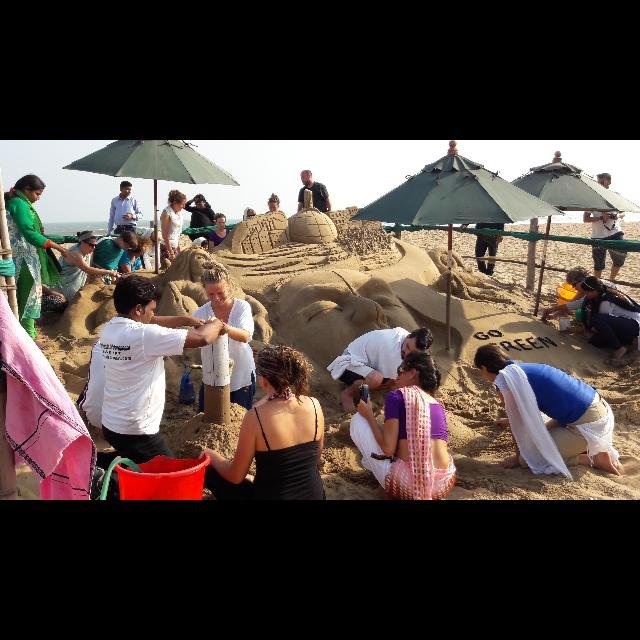head: (114, 274, 158, 330), (258, 346, 292, 390), (396, 351, 434, 389), (474, 344, 508, 384), (201, 270, 231, 306), (402, 329, 432, 359), (19, 175, 45, 205), (568, 269, 590, 293), (582, 276, 604, 300), (79, 230, 97, 253), (130, 236, 148, 258), (118, 231, 136, 251), (170, 191, 186, 211), (146, 228, 160, 248), (596, 174, 612, 190), (120, 181, 132, 197), (301, 170, 313, 186), (216, 214, 227, 230), (194, 194, 206, 208), (485, 190, 497, 202)
person: (472, 344, 624, 481), (186, 260, 258, 456), (0, 172, 76, 351), (325, 326, 435, 416), (545, 264, 637, 344), (54, 228, 124, 324), (582, 172, 630, 296), (82, 230, 140, 320), (458, 175, 506, 282), (296, 168, 334, 276), (104, 180, 144, 276), (158, 188, 188, 300), (110, 234, 154, 310), (182, 193, 218, 283), (128, 226, 164, 302), (208, 211, 235, 287)
